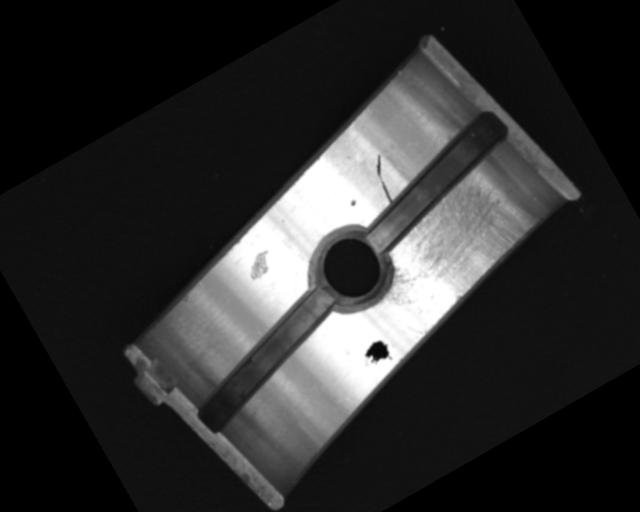blot: (356, 336, 395, 372)
bruise: (242, 248, 277, 282), (348, 197, 357, 207)
gap: (339, 104, 531, 258), (172, 281, 361, 435)
hole: (297, 215, 404, 324)
nick: (364, 152, 403, 204)
scratch: (346, 153, 559, 342)
